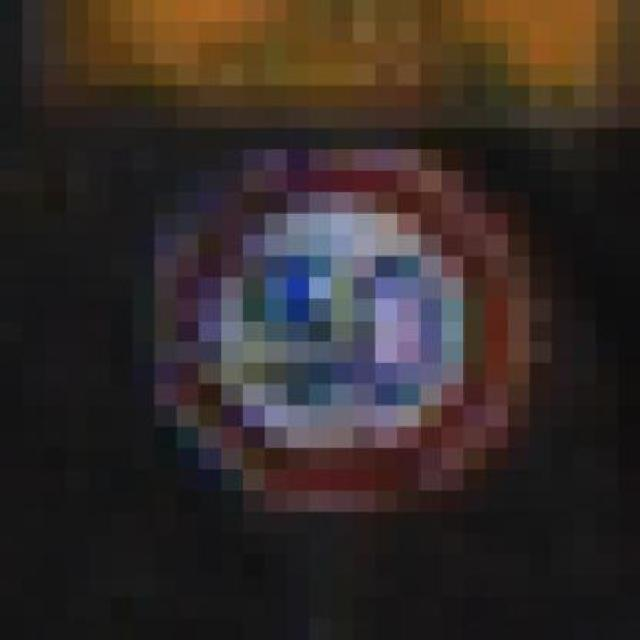Speed limit 50: (144, 138, 544, 518)
